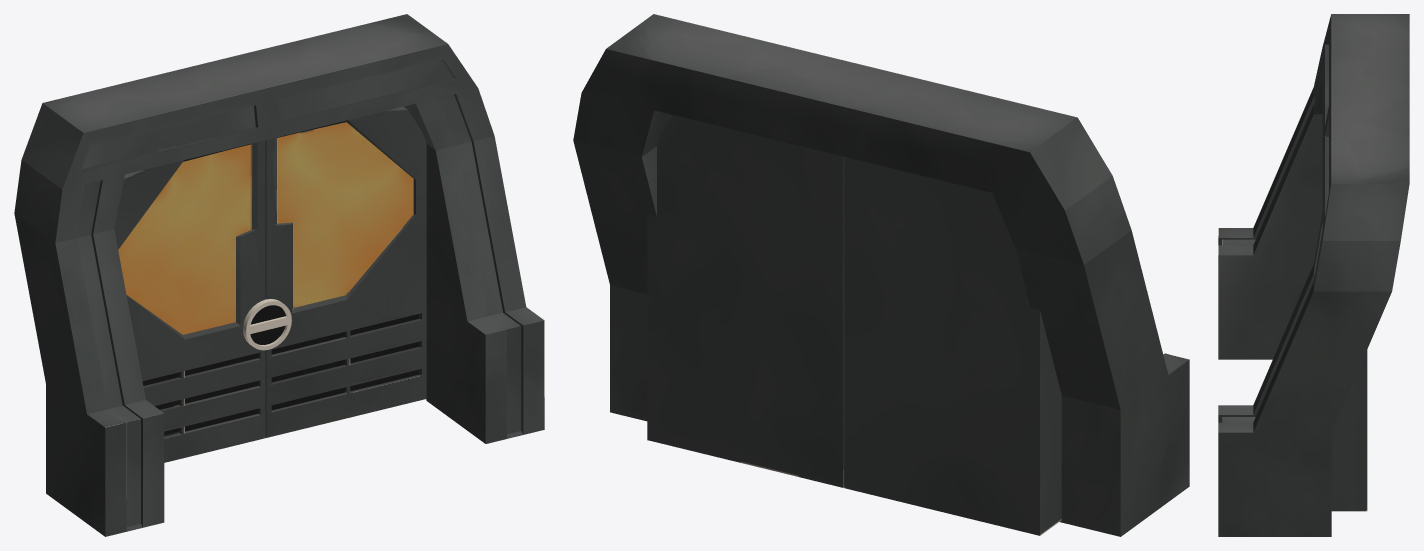
File: Futuristic Door (1).fbx
3 renders of one model, left to right at view 1: azimuth 30°, elevation 25°; view 2: azimuth 150°, elevation 25°; view 3: azimuth 270°, elevation 25°, orthographic. The views are drawn at different scales.
Visible parts, largest first — view 1: Cube.004, Cube.007, Cube.006, Cylinder; view 2: Cube.004, Cube.006, Cube.007; view 3: Cube.004, Cube.007.
Part boxes in pixels (<box>): Cube.004: <box>14,14,544,536</box>; Cube.007: <box>265,106,426,437</box>; Cube.006: <box>114,140,265,462</box>; Cylinder: <box>243,299,291,350</box>; Cube.004: <box>573,14,1189,536</box>; Cube.006: <box>844,157,1061,535</box>; Cube.007: <box>647,115,844,487</box>; Cube.004: <box>1218,14,1409,536</box>; Cube.007: <box>1331,350,1367,511</box>.
Bounding box in the file's own units: 883 × 675 × 348.
Materials: 1 (1 with a texture image).
